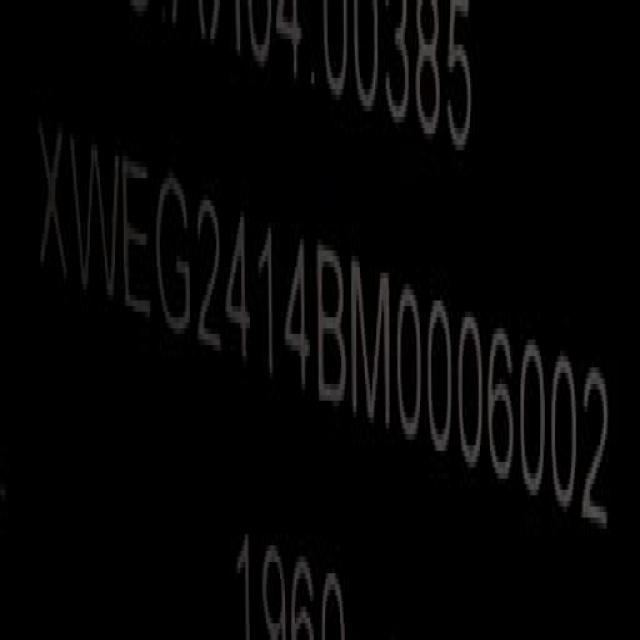0: (394, 276, 426, 451), (520, 333, 548, 503), (426, 293, 454, 462), (551, 351, 579, 517), (458, 306, 485, 476)
1: (259, 211, 278, 389)
2: (582, 369, 614, 543), (198, 187, 225, 365)
4: (284, 225, 315, 402), (226, 202, 253, 375)
6: (488, 316, 518, 490)
B: (317, 236, 348, 418)
E: (122, 143, 157, 332)
G: (155, 164, 193, 342)
M: (351, 255, 392, 433)
W: (73, 124, 123, 319)
X: (37, 106, 71, 300)
